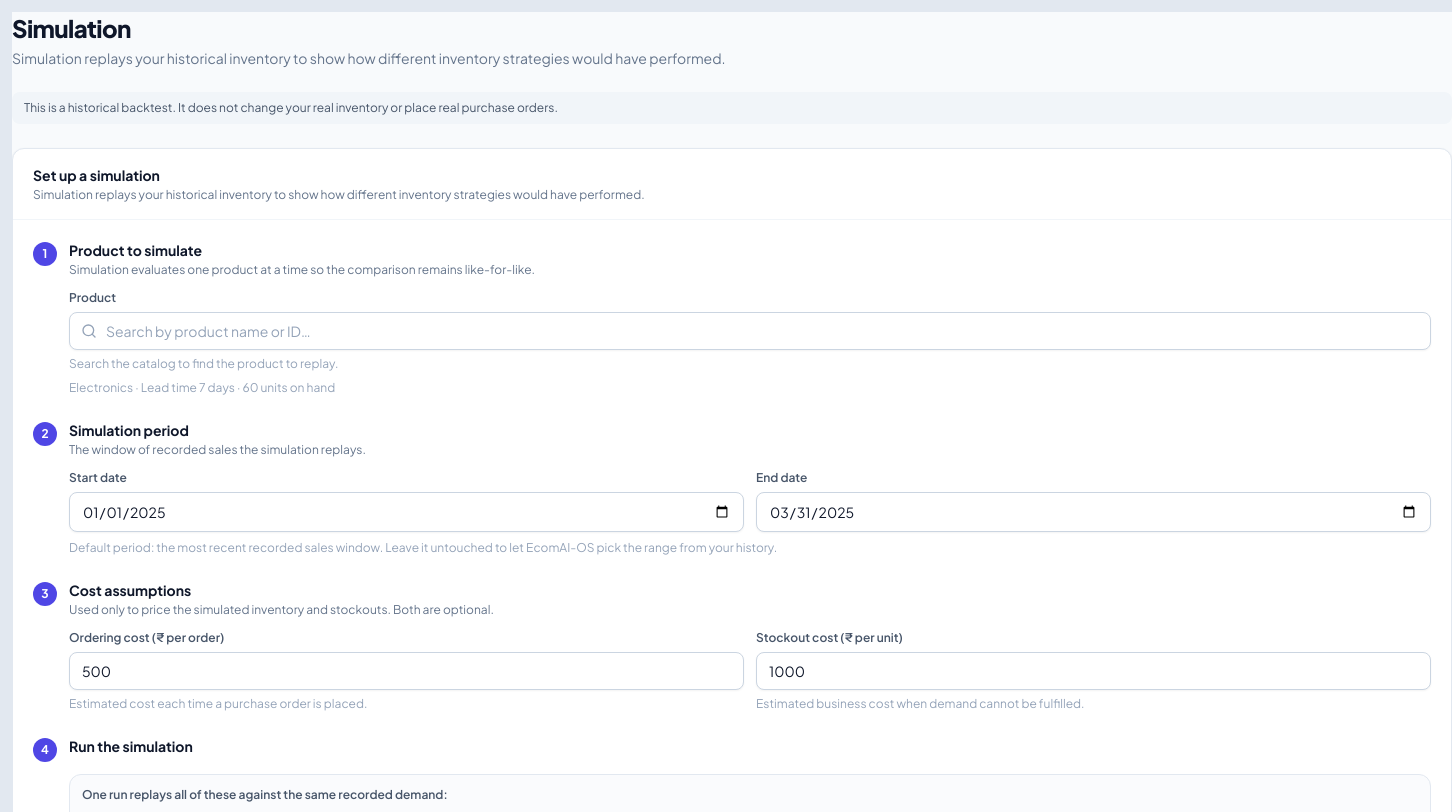
Test: searching for the product to simulate › finds a product by its product id, in any case
The image size is (1452, 812).
Type "  p003 " into the dropdown labelled "Product" at (750, 331), box [69, 312, 1431, 350]
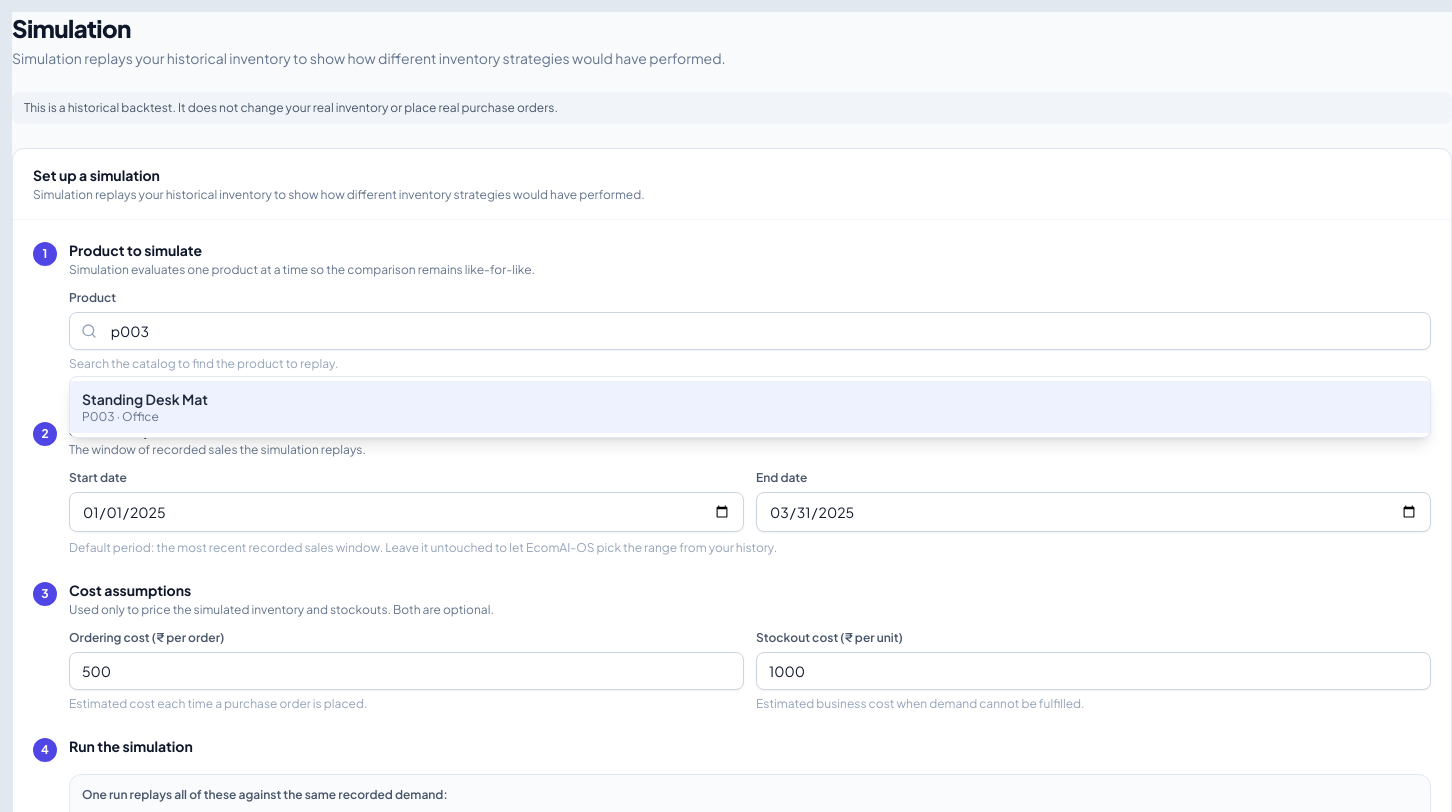
Result: the number of options is 1 at [70, 381, 1430, 433]
Result: the option shows "Standing Desk Mat" at [70, 381, 1430, 433]
